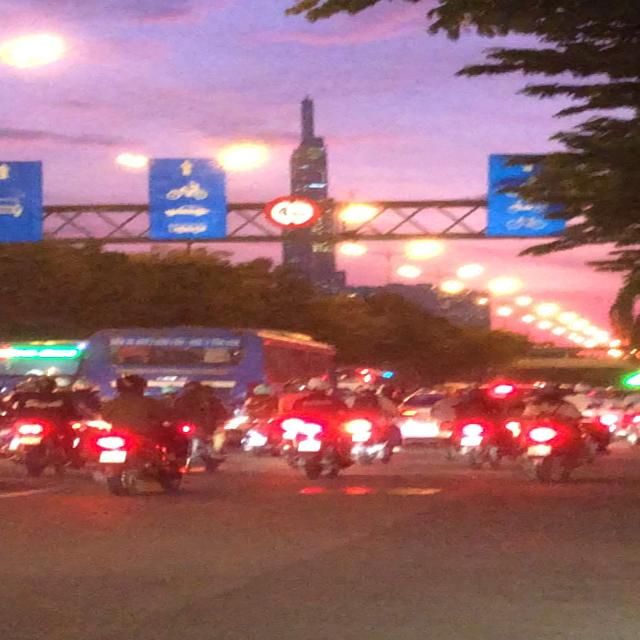Bien bao han che chieu cao: (256, 190, 334, 234)
